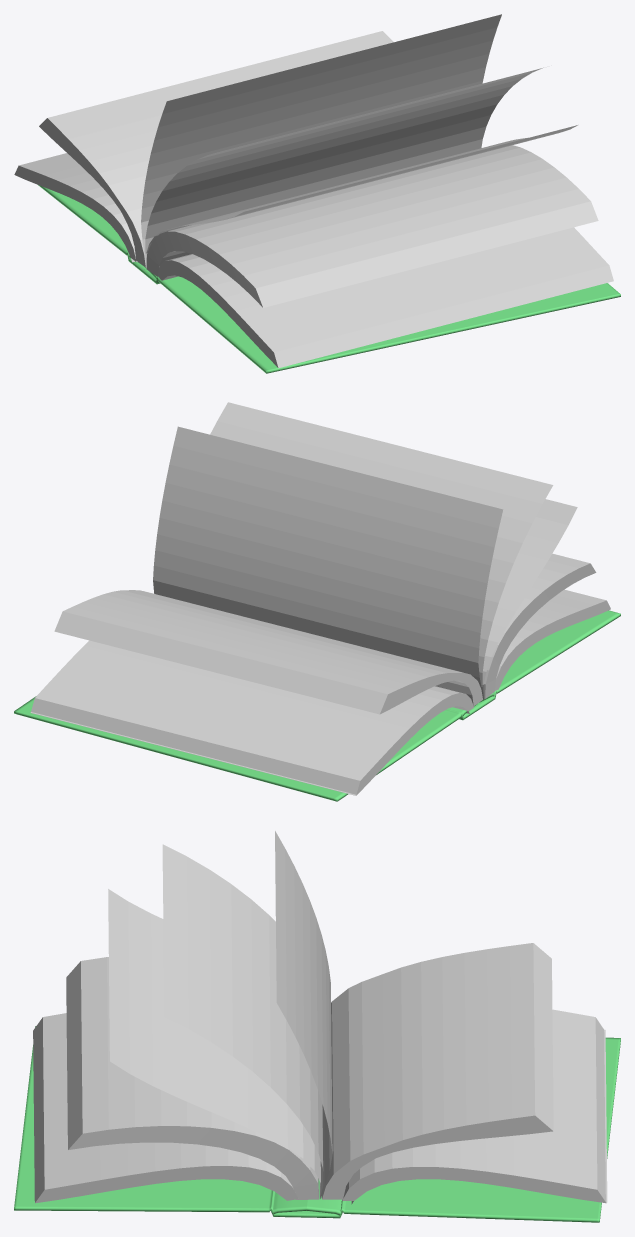
The model's file is study3.glb.
3 renders of one model, top to bottom at view 1: azimuth 30°, elevation 25°; view 2: azimuth 150°, elevation 25°; view 3: azimuth 270°, elevation 25°, orthographic. The views are drawn at different scales.
Visible parts, largest first — view 1: Cube.002; view 2: Cube.002; view 3: Cube.002.
Part boxes in pixels (x1,y1,x2,y2): Cube.002: (14, 14, 620, 373); Cube.002: (14, 402, 620, 801); Cube.002: (14, 831, 620, 1222).
Size of the model in its own units: 1.66 by 0.8382 by 2.2.
